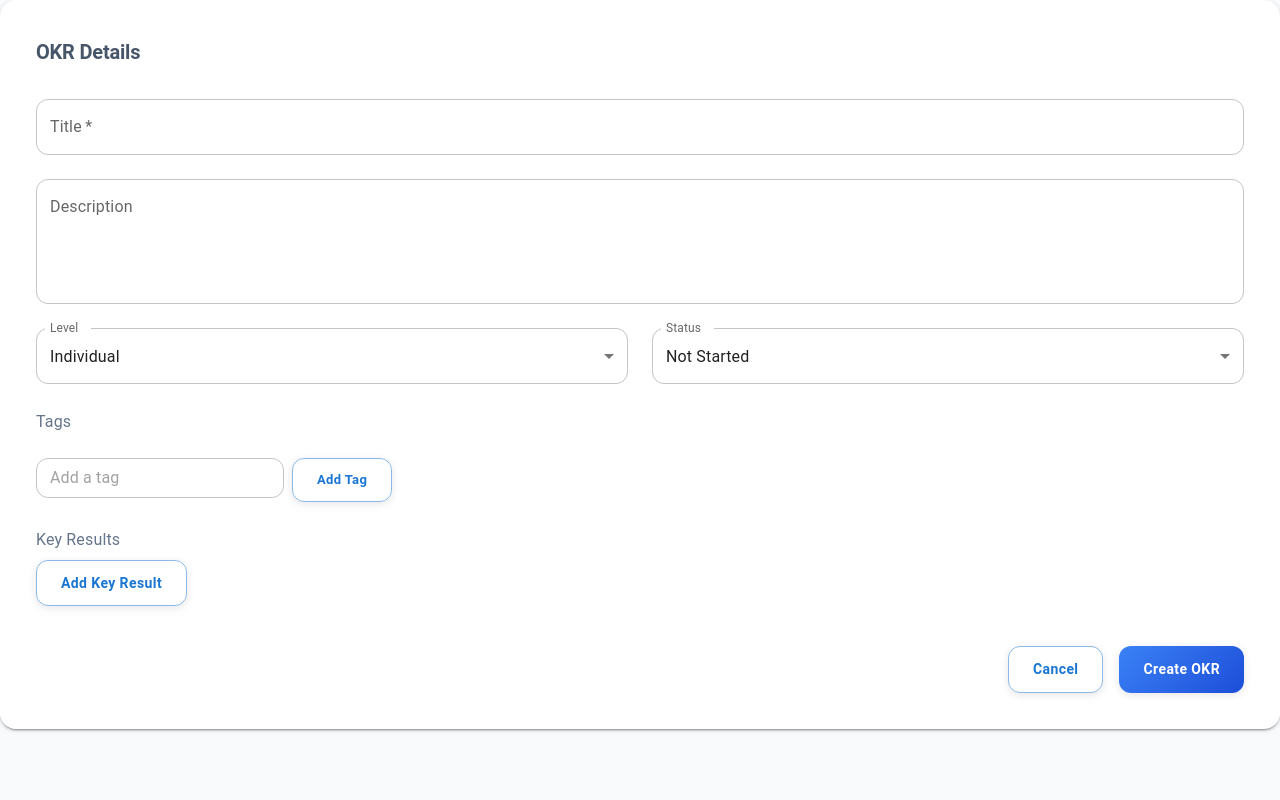
Scenario: OKRForm › handles tag addition and removal
# Add a tag
In the field with placeholder "Add a tag": (160, 478) [36, 458, 284, 498], type "newtag"
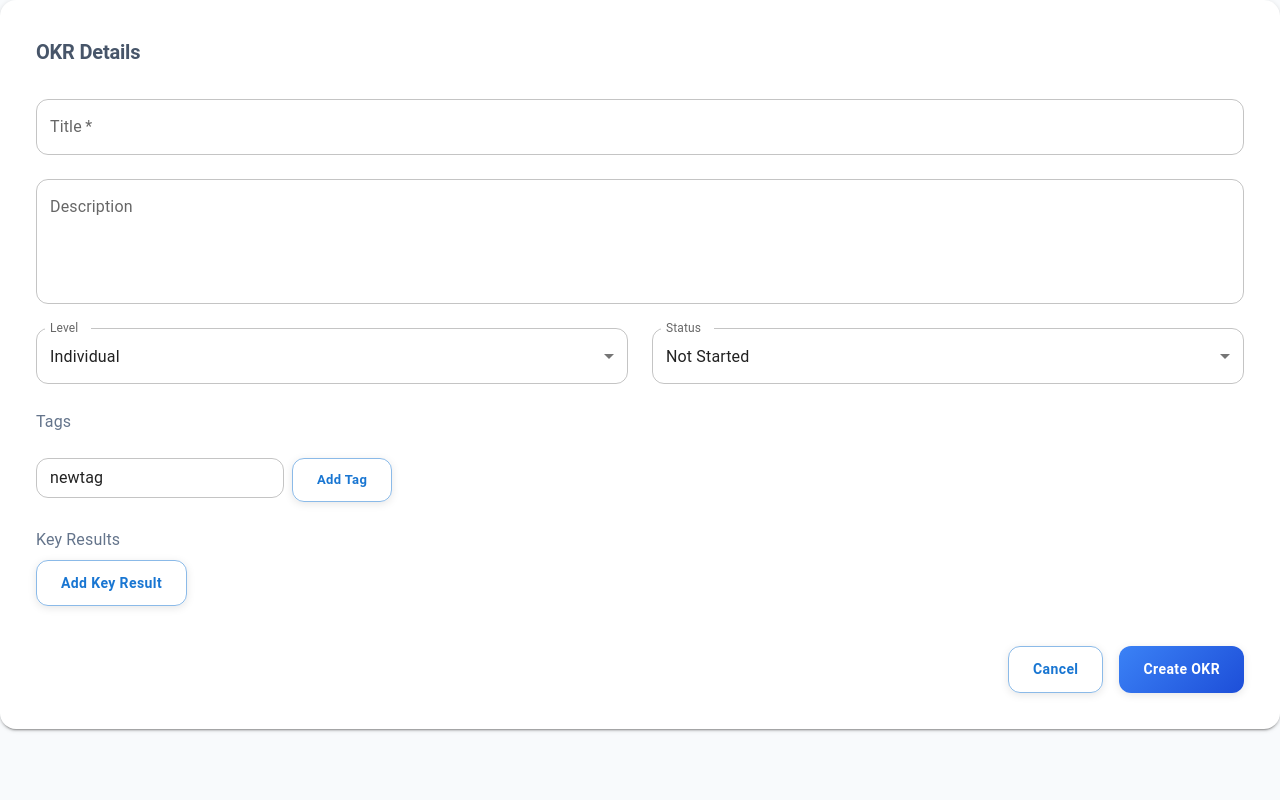
Click the button "Add Tag": (342, 480) [292, 458, 392, 502]
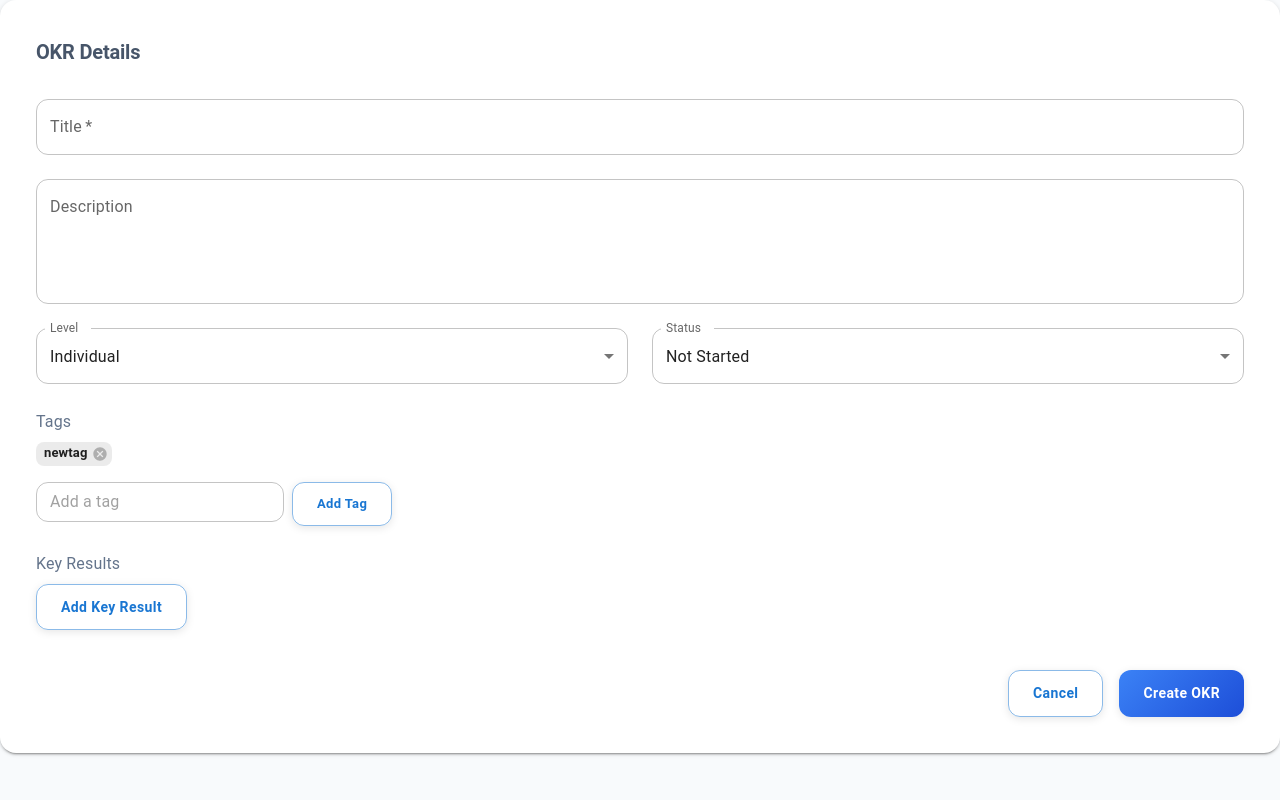
Check: the text "newtag" is shown, box [44, 445, 88, 460]
Click the icon below "Tags": (100, 454) [92, 446, 108, 462]
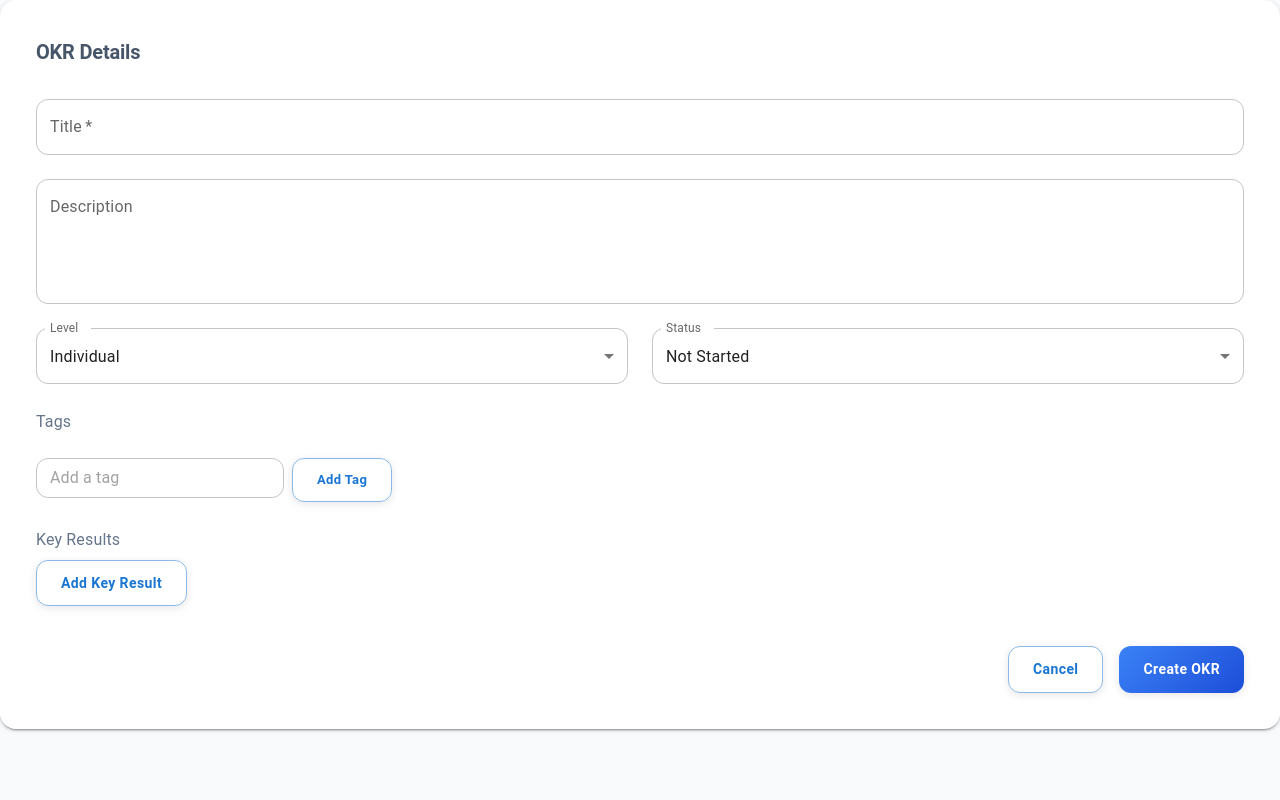
Check: the button "newtag" is gone
